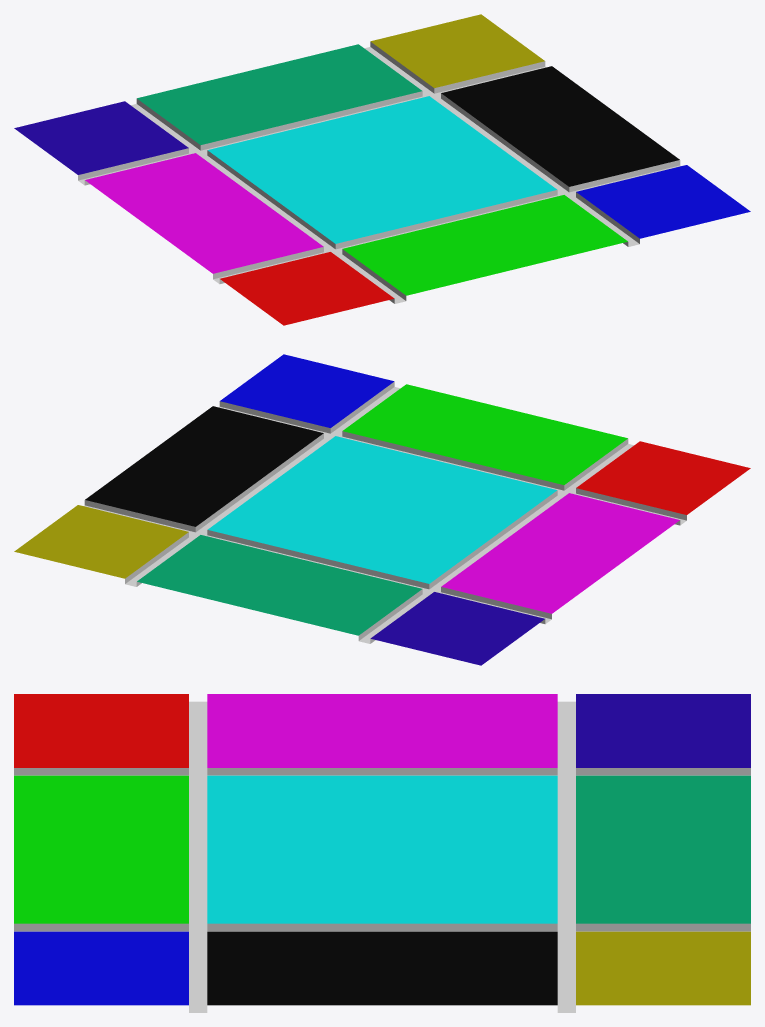
File: Roof.fbx
3 views of the same model, one above another, from view 1: azimuth 30°, elevation 25°; view 2: azimuth 150°, elevation 25°; view 3: azimuth 270°, elevation 25° (orthographic). The views are drawn at different scales.
Visible parts, largest first — view 1: pPlane2; view 2: pPlane2; view 3: pPlane2.
Part boxes in pixels (<box>): pPlane2: <box>14,14,750,325</box>; pPlane2: <box>14,354,750,665</box>; pPlane2: <box>14,694,750,1012</box>.
Bounding box in the file's own units: 2 × 0.0225 × 2.
